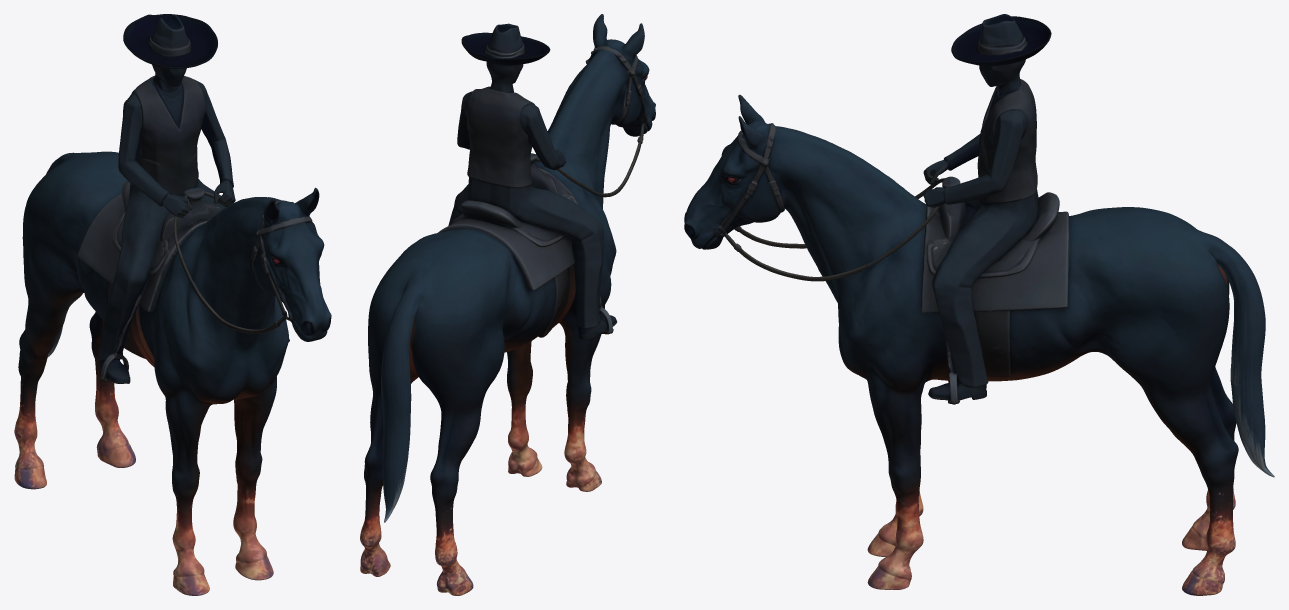
The model's file is 71-el-jinete-que-tira-fuego-optimized.glb.
The picture shows the model from 3 angles, left to right: view 1: azimuth 30°, elevation 25°; view 2: azimuth 150°, elevation 25°; view 3: azimuth 270°, elevation 25°; orthographic projection. The views are drawn at different scales.
Parts seen in each view (by area): view 1: tripo_node_0ba8b820-95c2-4e1f-bdfb-afe6f973fee9; view 2: tripo_node_0ba8b820-95c2-4e1f-bdfb-afe6f973fee9; view 3: tripo_node_0ba8b820-95c2-4e1f-bdfb-afe6f973fee9.
Boxes of the visible parts, box(x1,y1,x2,y2) form: tripo_node_0ba8b820-95c2-4e1f-bdfb-afe6f973fee9: box(14, 14, 331, 595); tripo_node_0ba8b820-95c2-4e1f-bdfb-afe6f973fee9: box(360, 14, 655, 595); tripo_node_0ba8b820-95c2-4e1f-bdfb-afe6f973fee9: box(684, 14, 1274, 595).
Size of the model in its own units: 0.3678 by 1 by 0.9722.
Materials: 1 (1 with a texture image).
